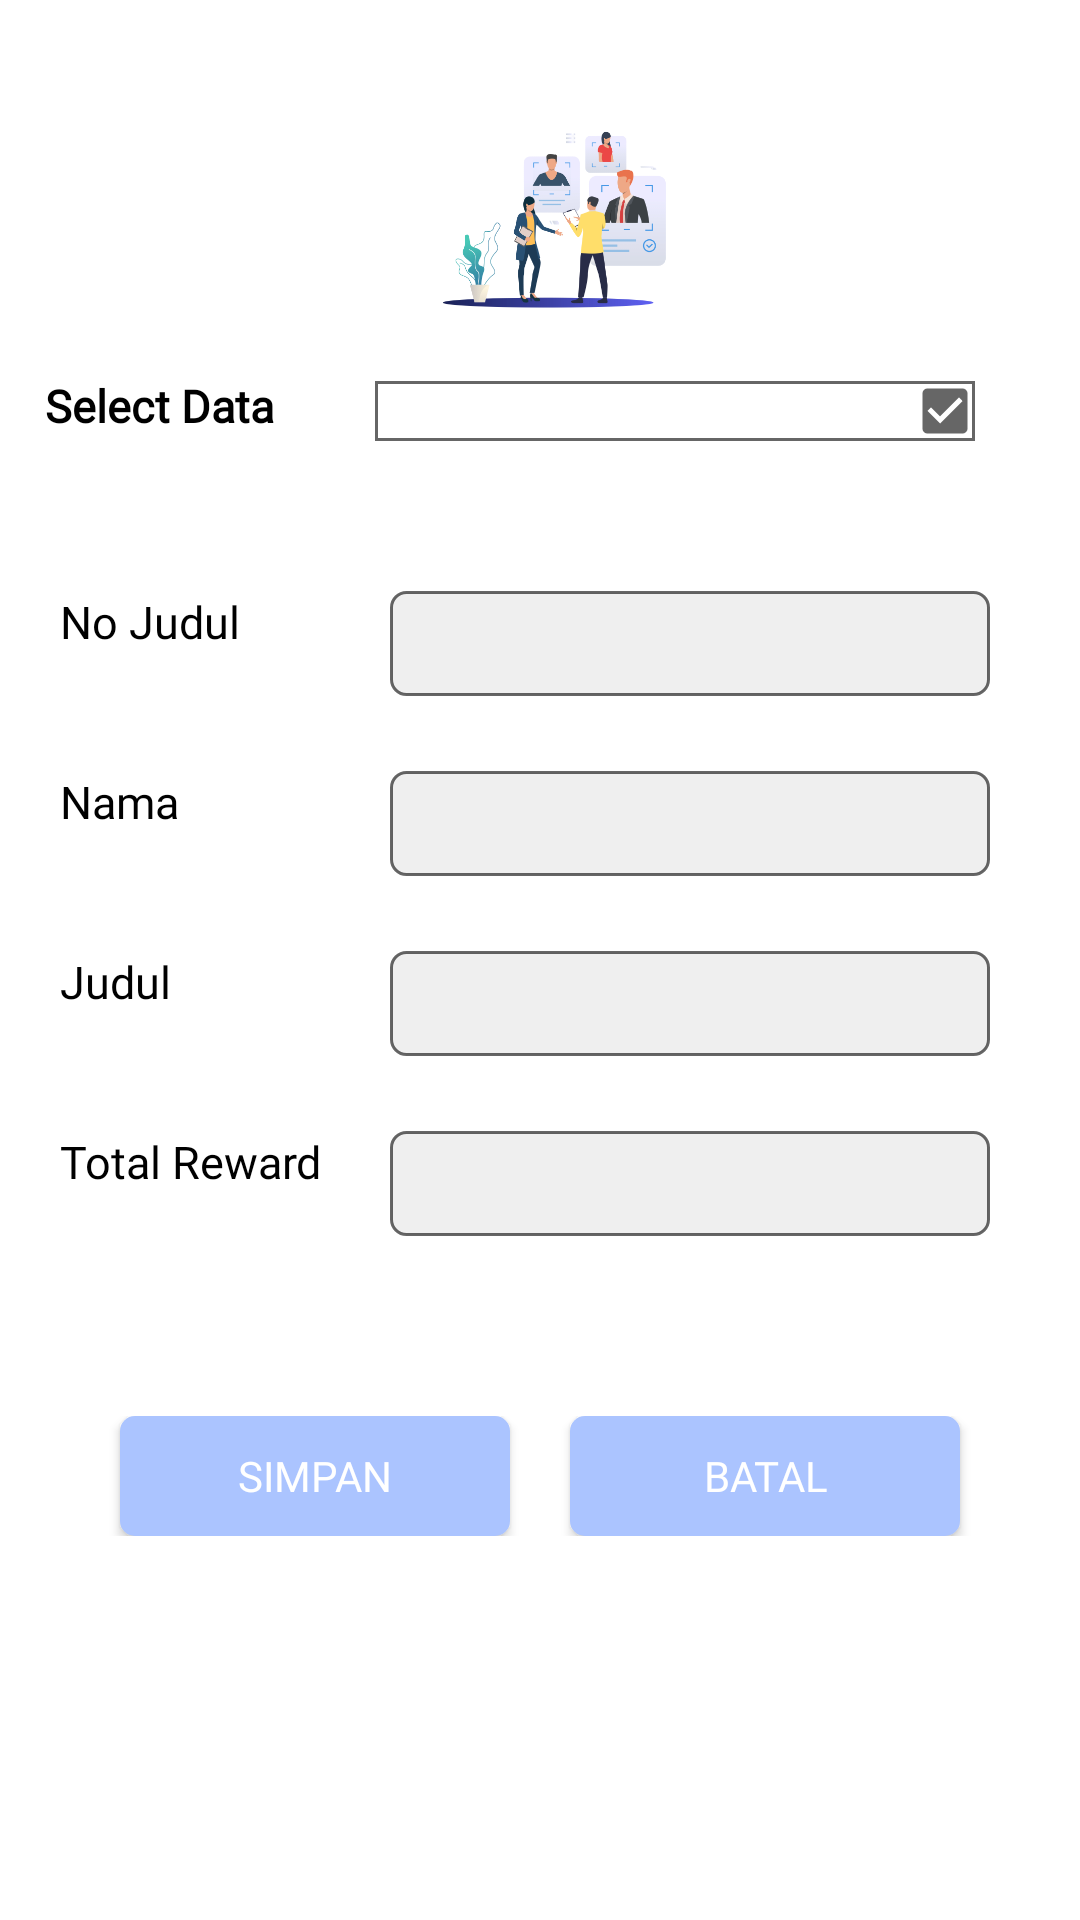

Named icons in this screenshot (1080 × 1920) and their centers, (x,y):
check: (945,411)
employe: (554,220)
